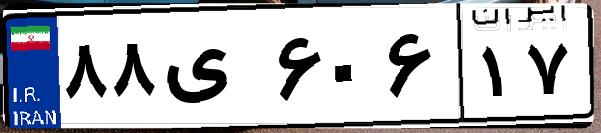0: (330, 28, 385, 110)
1: (475, 38, 525, 113)
6: (270, 28, 330, 110), (385, 28, 445, 110)
7: (525, 38, 570, 115)
8: (57, 26, 110, 100), (110, 28, 158, 98)
ی: (158, 20, 270, 120)
